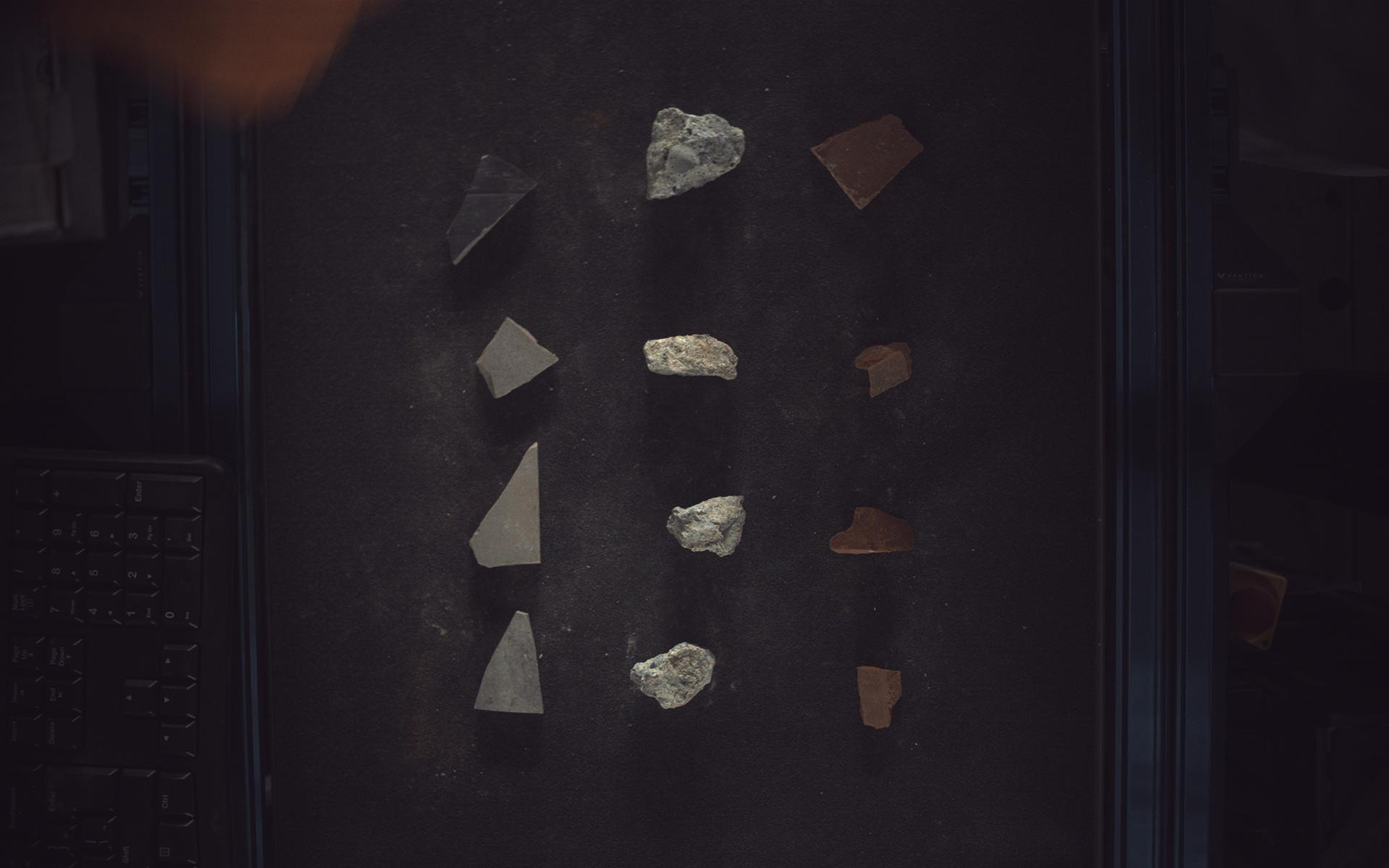brick: (812, 114, 925, 208), (831, 509, 917, 554), (856, 342, 914, 397), (859, 668, 903, 730)
concrete: (647, 106, 746, 198), (631, 644, 716, 710), (668, 496, 747, 557), (644, 334, 738, 380)
tile: (447, 153, 538, 264), (470, 443, 541, 569), (475, 612, 544, 715), (477, 317, 558, 399)
